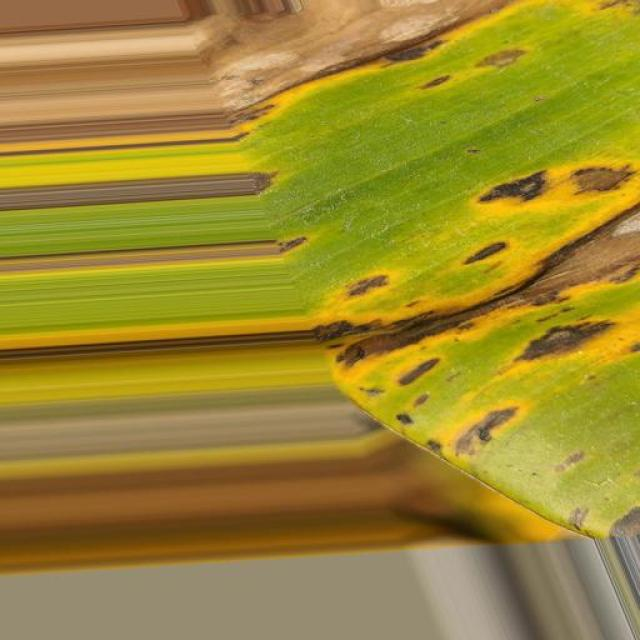Early_rust: (175, 0, 640, 539)
